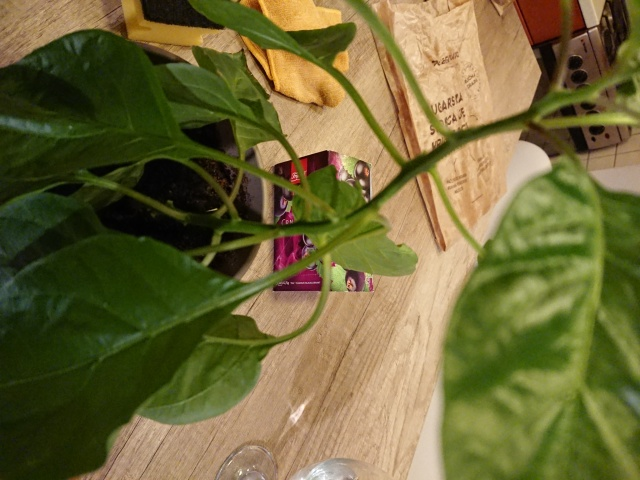Franck Black Currant Tea 60g: (270, 147, 376, 295)
